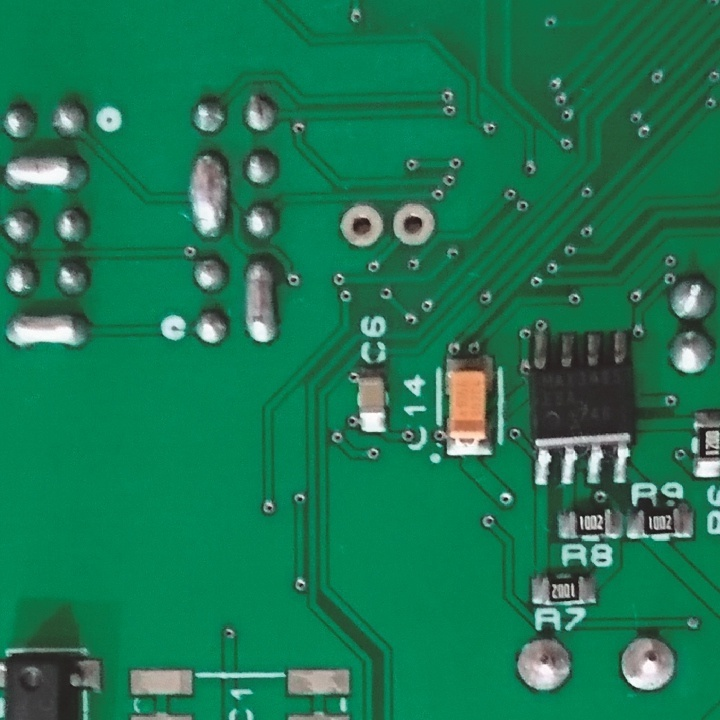F: (619, 633, 683, 692), (516, 637, 576, 698), (390, 201, 434, 252), (338, 203, 384, 250)
P: (1, 308, 95, 358), (185, 151, 233, 244), (1, 152, 93, 196), (243, 258, 282, 347)
